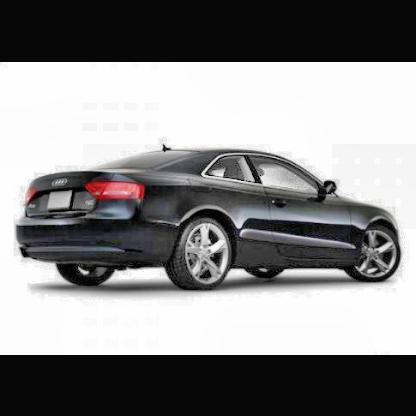Audi S5 Coupe 2012: (18, 145, 403, 290)
